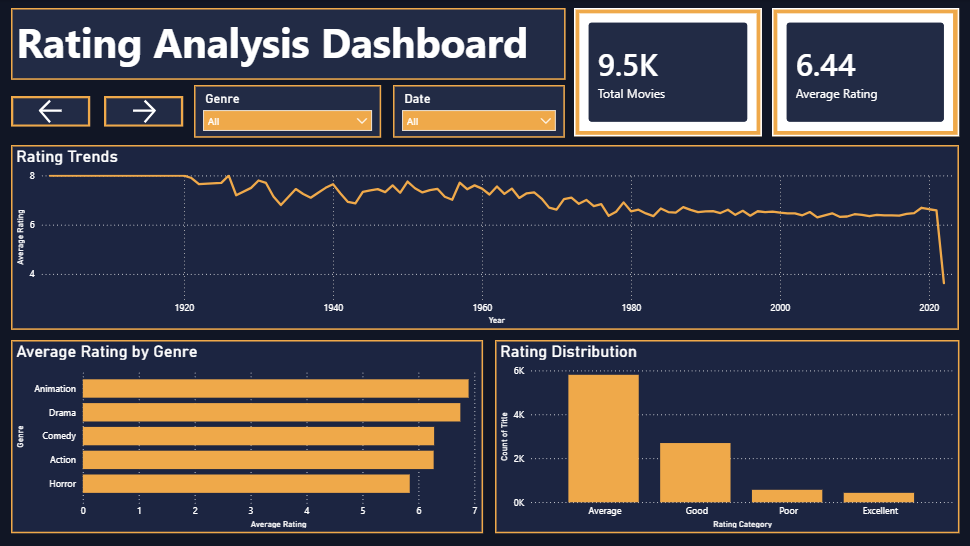

The page's visual inventory and layout, read from the dashboard file:
{"tool":"powerbi","page":{"name":"Rating Analysis","canvas":[1280,720],"ordinal":2},"visuals":[{"type":"textbox","box":[21.6,11.5,725.8,93.6],"z":0},{"type":"actionButton","box":[21.6,126.7,103.7,40.3],"z":1000},{"type":"actionButton","box":[144,126.7,103.7,40.3],"z":2000},{"type":"lineChart","title":"Rating Trends","fields":{"Category":["Date Table.Date.Variation.Date Hierarchy.Year"],"Y":["Genre.Average Rating"]},"box":[21.6,191.5,1241.3,241.9],"z":3000},{"type":"columnChart","title":"Rating Distribution","fields":{"Category":["Rating Category.Rating Category"],"Y":["CountNonNull(mymoviedb.Title)"]},"box":[655.2,446.4,607.7,253.4],"z":4000},{"type":"barChart","fields":{"Category":["Genre.Genre"],"Y":["Genre.Average Rating"]},"box":[21.6,446.4,617.8,253.4],"z":5000},{"type":"cardVisual","fields":{"Data":["Genre.Total Movies"]},"box":[758.9,11.5,246.2,168.5],"z":6000},{"type":"cardVisual","fields":{"Data":["Genre.Average Rating"]},"box":[1018.1,11.5,244.8,168.5],"z":7000},{"type":"slicer","fields":{"Values":["Genre.Genre"]},"box":[262.1,112.3,244.8,69.1],"z":8000},{"type":"slicer","fields":{"Values":["Date Table.Date.Variation.Date Hierarchy.Year"]},"box":[522.7,112.3,224.6,69.1],"z":9000}]}

Visuals, with their boxes in screenshot pixels (x1, y1, x2, y2), scaled from the page's 1280x720 canvas onto the 970x546 screenshot:
textbox: left=16, top=9, right=566, bottom=80
actionButton: left=16, top=96, right=95, bottom=127
actionButton: left=109, top=96, right=188, bottom=127
"Rating Trends" lineChart: left=16, top=145, right=957, bottom=329
"Rating Distribution" columnChart: left=497, top=339, right=957, bottom=531
barChart - Genre.Genre x Genre.Average Rating: left=16, top=339, right=485, bottom=531
cardVisual - Genre.Total Movies: left=575, top=9, right=762, bottom=136
cardVisual - Genre.Average Rating: left=772, top=9, right=957, bottom=136
slicer - Genre.Genre: left=199, top=85, right=384, bottom=138
slicer - Date Table.Date.Variation.Date Hierarchy.Year: left=396, top=85, right=566, bottom=138
